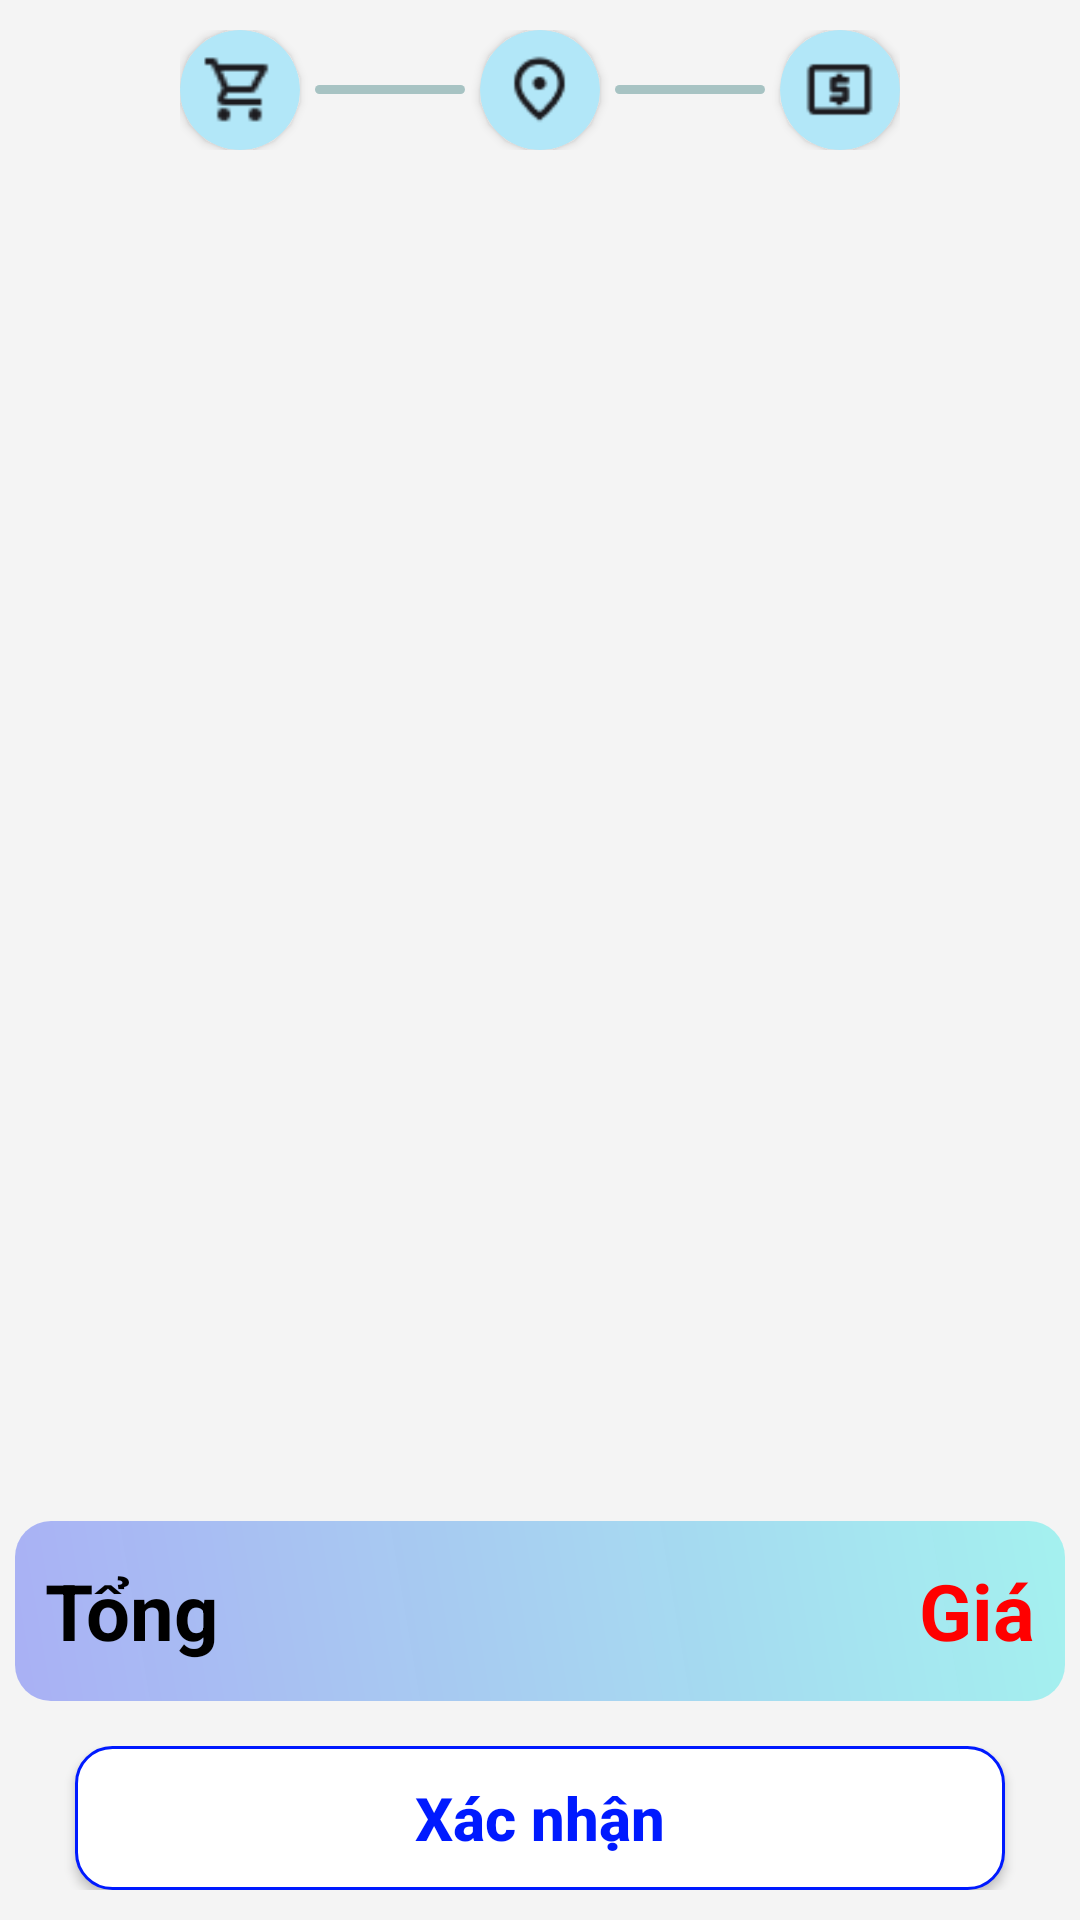

Icon bounding boxes for this 1080 × 1920 phone screenshot, format box(x1, y1, x2, y2):
address: box(514, 56, 565, 121)
cart: box(204, 57, 269, 122)
payment: box(806, 64, 873, 115)
